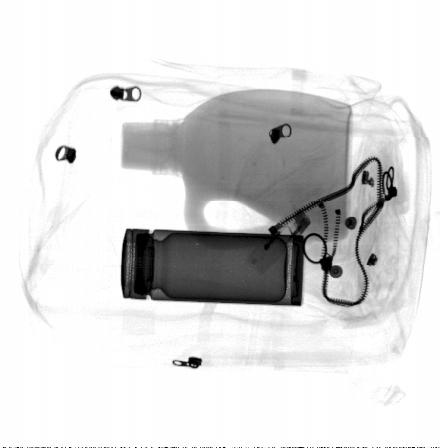Lighter: (248, 205, 311, 276)
